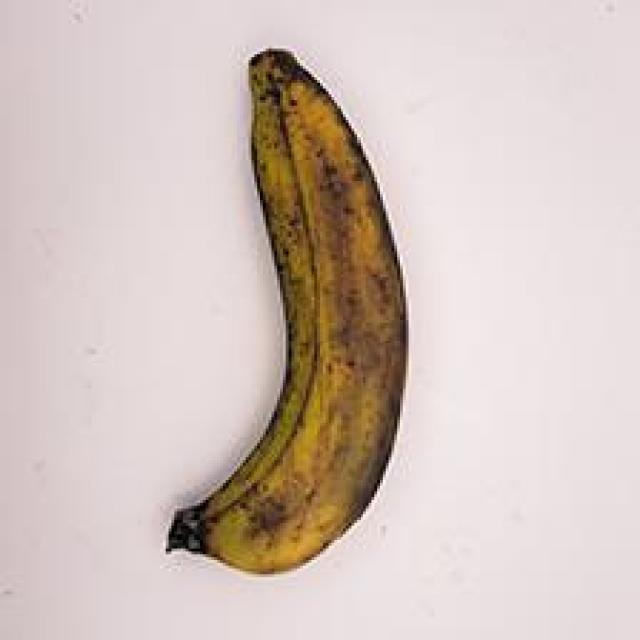Overripe: (140, 36, 434, 608)
